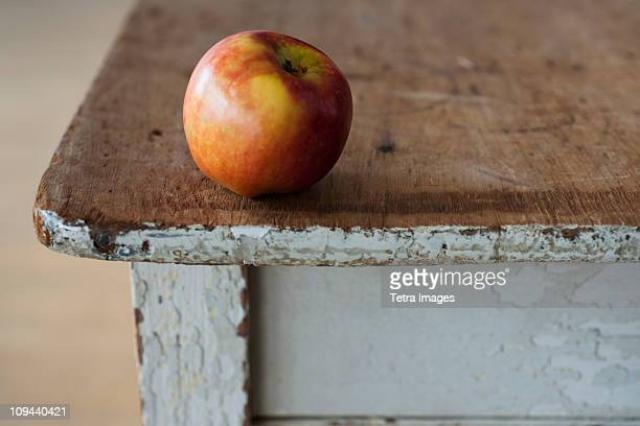Apples: (188, 29, 354, 197)
